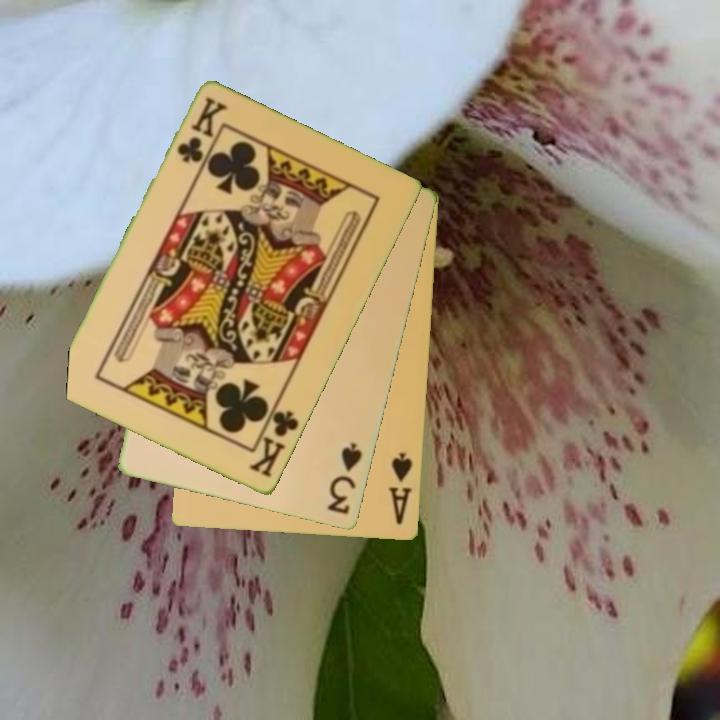3s: (324, 439, 366, 518)
As: (386, 449, 416, 527)
Kc: (246, 399, 302, 481), (173, 94, 229, 167)
